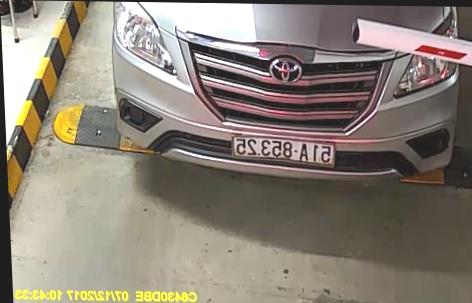License_Plate: (229, 133, 338, 169)
